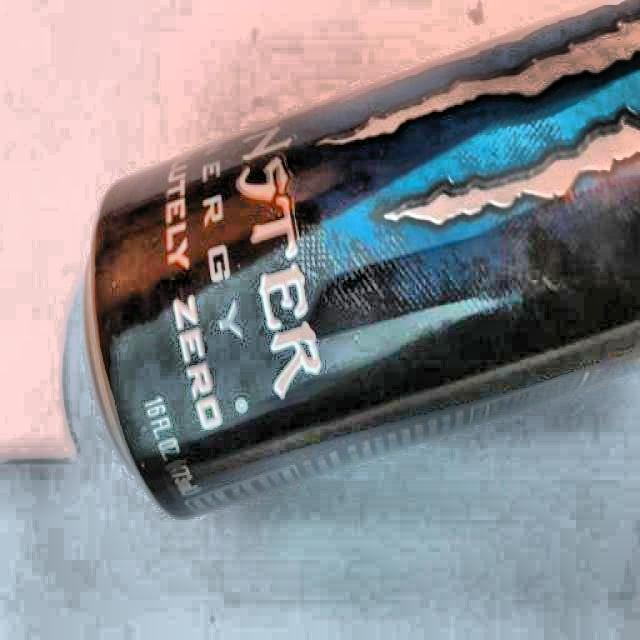metal: (81, 0, 640, 522)
